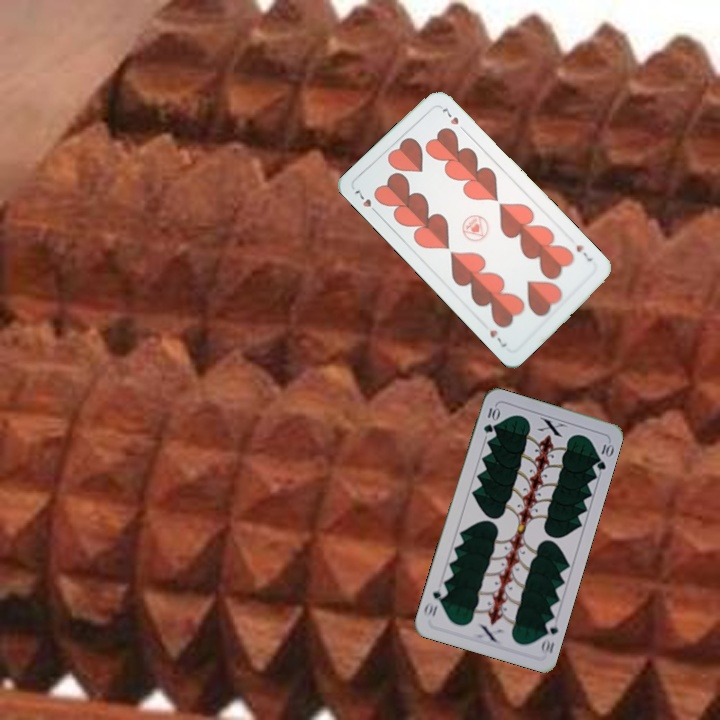G10: (537, 616, 561, 657), (479, 402, 501, 436)
H7: (350, 185, 382, 218), (572, 241, 595, 265)
